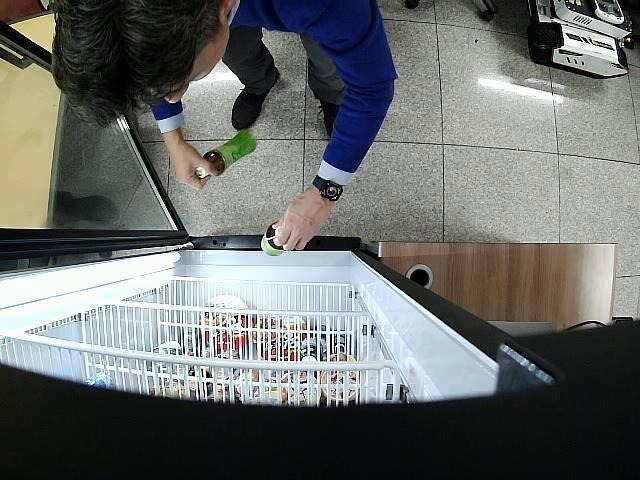19_17cha: (196, 129, 256, 178), (261, 222, 284, 256)
